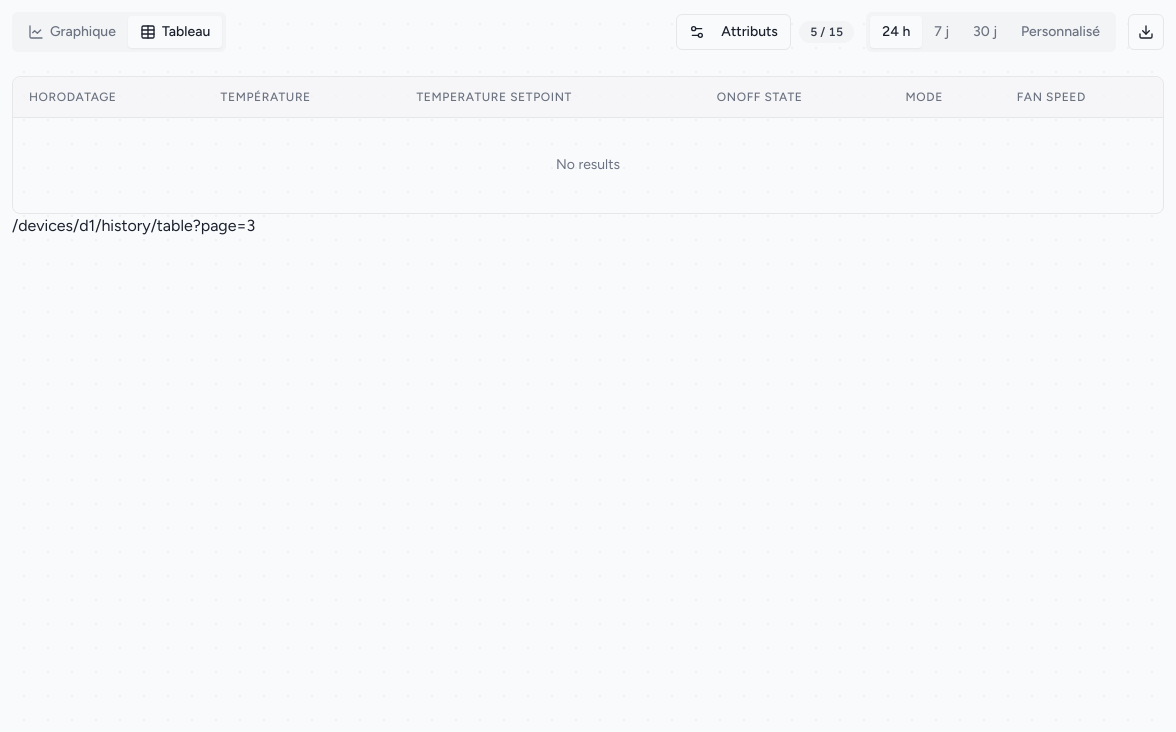
Test: DeviceHistoryPage range control › writes ?last and resets the page param when a segment is picked
Expected: the text "5 / 15" is shown, [799,21,854,43]
Step 1. Click the button "7 j" → click(942, 32), box [922,16,961,48]
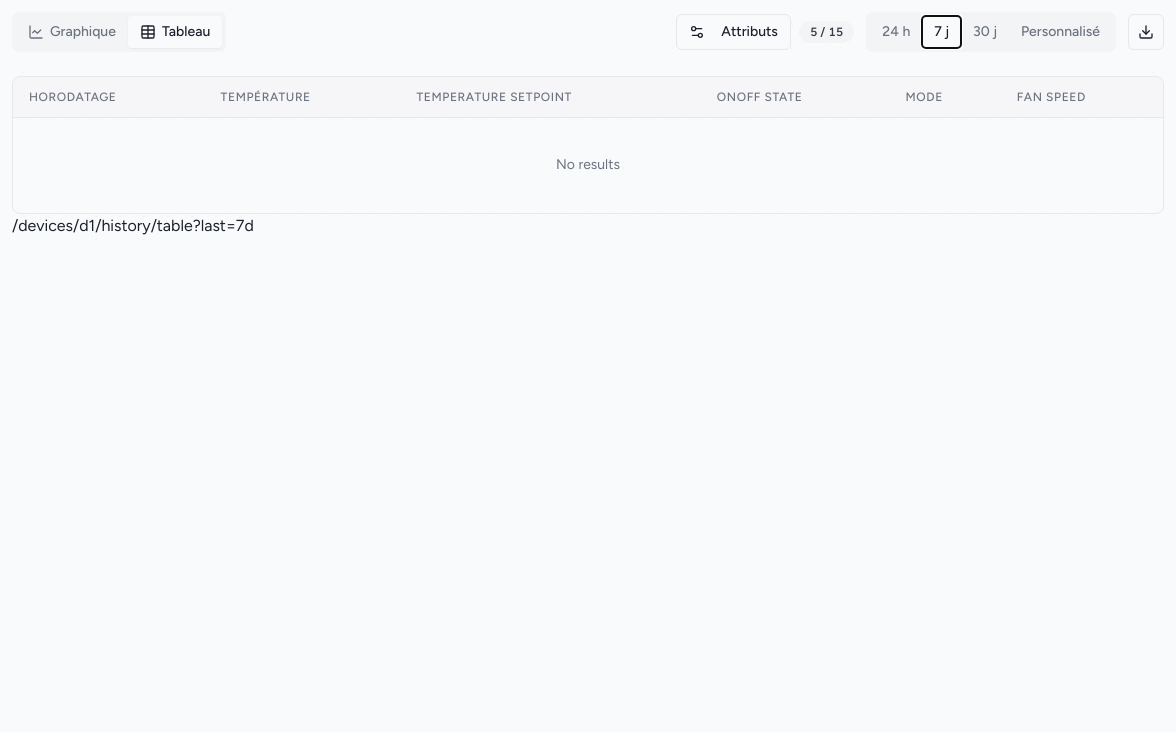
Now the text with test id "location" shows "last=7d", box [12,216,254,235]
Now the text with test id "location" no longer shows "page=", box [12,216,254,235]
